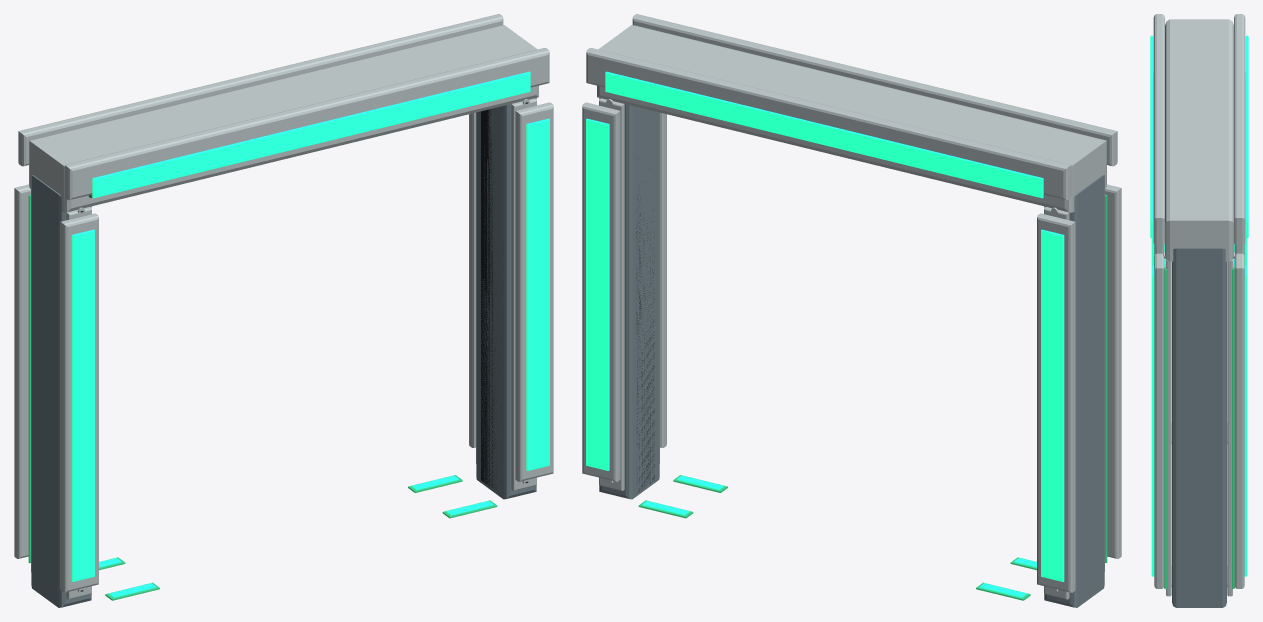
File: genesis-green-airlock.glb
3 views of the same model, side by side, from view 1: azimuth 30°, elevation 25°; view 2: azimuth 150°, elevation 25°; view 3: azimuth 270°, elevation 25° (orthographic). The views are drawn at different scales.
Visible parts, largest first — view 1: green-airlock__titanium, green-airlock__green, green-airlock__graphite, green-airlock__rubber, green-airlock__reflection; view 2: green-airlock__titanium, green-airlock__green, green-airlock__graphite, green-airlock__reflection, green-airlock__rubber; view 3: green-airlock__titanium, green-airlock__graphite, green-airlock__green, green-airlock__reflection.
Boxes of the visible parts, x1,y1,x2,y2 form: green-airlock__titanium: (14,14,553,599); green-airlock__green: (71,71,549,597); green-airlock__graphite: (31,98,536,607); green-airlock__rubber: (80,102,528,591); green-airlock__reflection: (28,194,497,600); green-airlock__titanium: (582,14,1121,599); green-airlock__green: (586,71,1064,597); green-airlock__graphite: (599,98,1104,607); green-airlock__reflection: (638,194,1107,600); green-airlock__rubber: (636,172,654,492); green-airlock__titanium: (1153,14,1245,596); green-airlock__graphite: (1172,248,1226,607); green-airlock__green: (1150,35,1248,584); green-airlock__reflection: (1164,267,1234,588).
Size of the model in its own units: 3.92 by 3.43 by 0.782.
5 materials, 1 textured.
